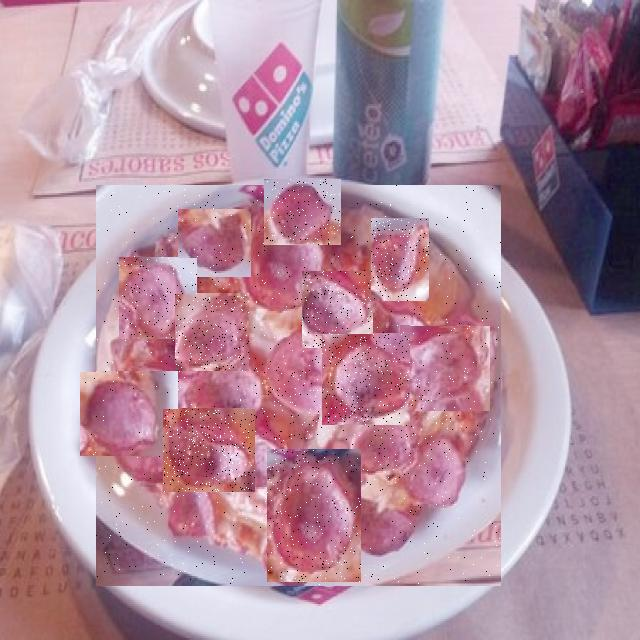Pepperoni: (267, 450, 361, 582), (80, 372, 178, 457), (368, 390, 454, 485), (322, 334, 410, 425), (400, 326, 490, 411), (163, 409, 255, 492), (244, 356, 332, 441), (119, 258, 197, 339), (410, 273, 492, 349), (175, 294, 249, 371), (302, 272, 373, 348), (264, 179, 341, 245), (178, 210, 251, 277), (371, 219, 429, 301)
Pizza: (96, 186, 501, 585)
